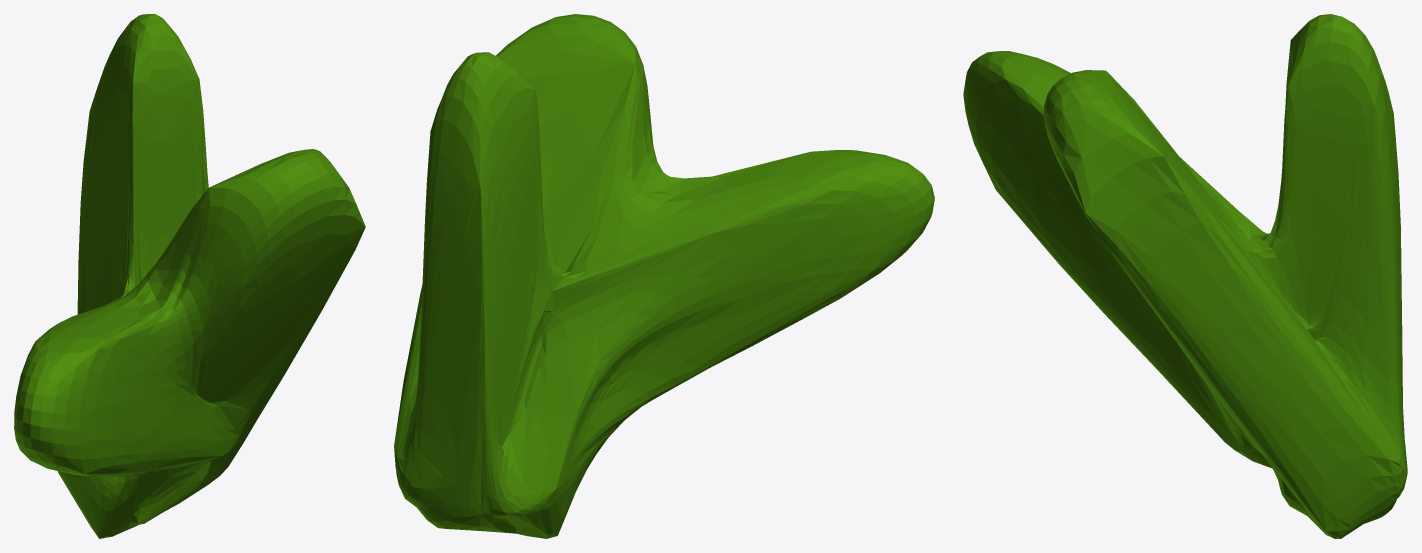
3 views of the same model, side by side, from view 1: azimuth 30°, elevation 25°; view 2: azimuth 150°, elevation 25°; view 3: azimuth 270°, elevation 25° (orthographic). The views are drawn at different scales.
Visible parts, largest first — view 1: 336_Cube.1372; view 2: 336_Cube.1372; view 3: 336_Cube.1372.
Boxes of the visible parts, x1,y1,x2,y2 form: 336_Cube.1372: (14, 14, 365, 538); 336_Cube.1372: (394, 14, 934, 538); 336_Cube.1372: (963, 14, 1407, 538).
Bounding box in the file's own units: 9.93 × 11.85 × 9.35.
